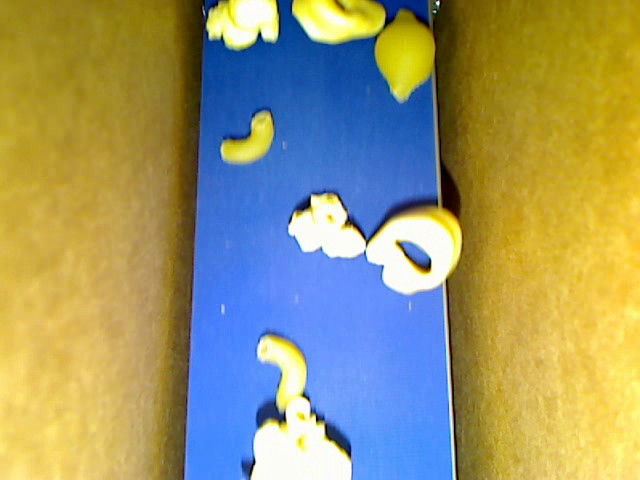elbow: (255, 332, 307, 414), (219, 110, 274, 165)
shell: (372, 9, 435, 103)
tortellini: (364, 205, 463, 295), (290, 1, 386, 45)
